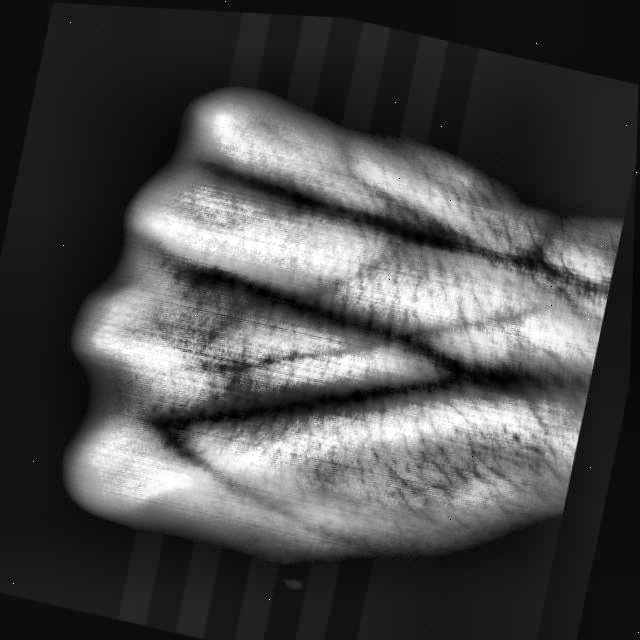Vein: (263, 172, 505, 273), (209, 371, 437, 434)
